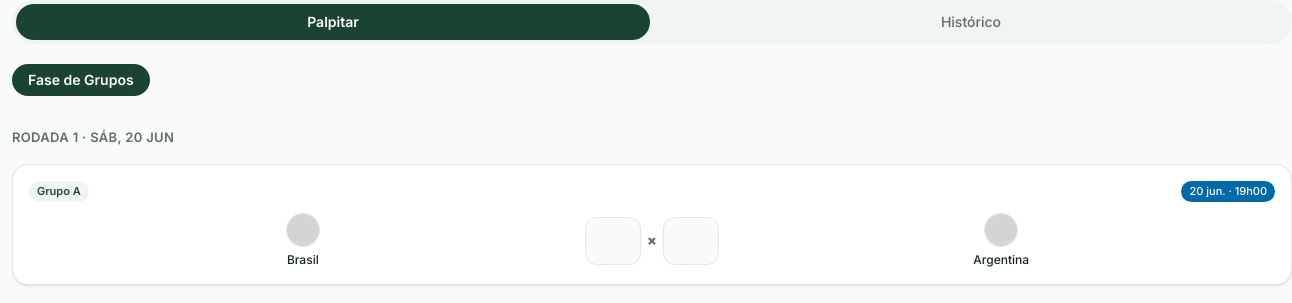
Test case: PalpitesContent › exibe o histórico vazio ao alternar para a aba Histórico
This screenshot has width=1292, height=303.
Click the tab "Histórico": [971, 22] box [654,4,1288,40]
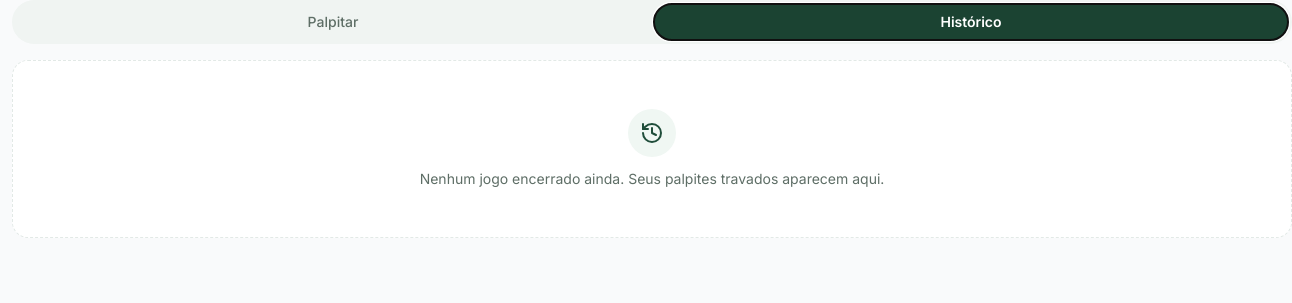
Check: the text "Nenhum jogo encerrado ainda" is shown, box [420,170,884,187]
